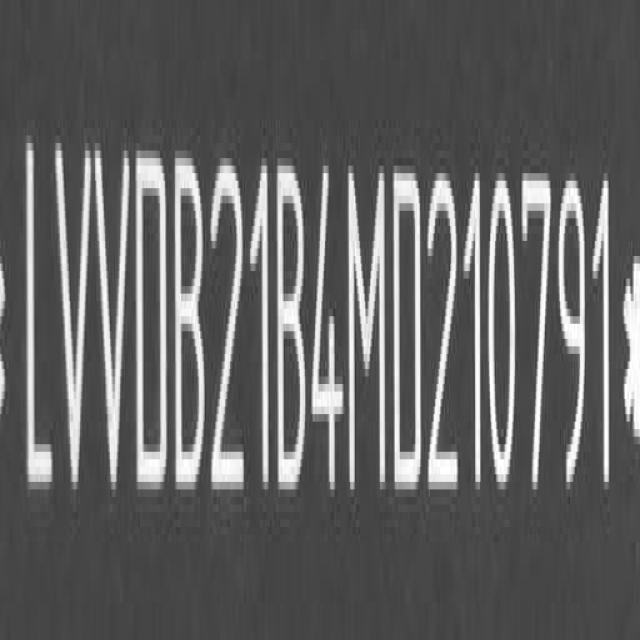0: (487, 181, 518, 491)
1: (463, 165, 486, 513), (249, 164, 271, 496), (590, 179, 612, 488)
2: (209, 148, 247, 502), (425, 165, 463, 508)
4: (310, 165, 344, 508)
7: (522, 176, 552, 488)
9: (556, 173, 586, 505)
B: (172, 148, 208, 488), (276, 156, 306, 508)
D: (134, 145, 172, 505), (392, 162, 424, 505)
L: (23, 114, 55, 499)
M: (347, 159, 390, 491)
V: (54, 128, 94, 505), (94, 131, 131, 499)
